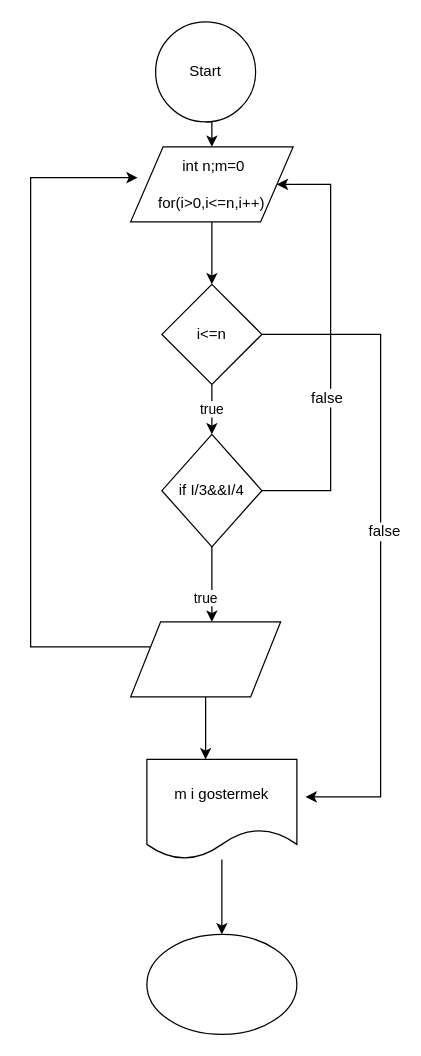
Image size: 421x1056. Some labels were removed from this diagram. Here are the shapes that lost their labels. From the top down, the box of each, then its label:
(129, 621, 281, 697): m=m++
(146, 933, 297, 1034): finish
